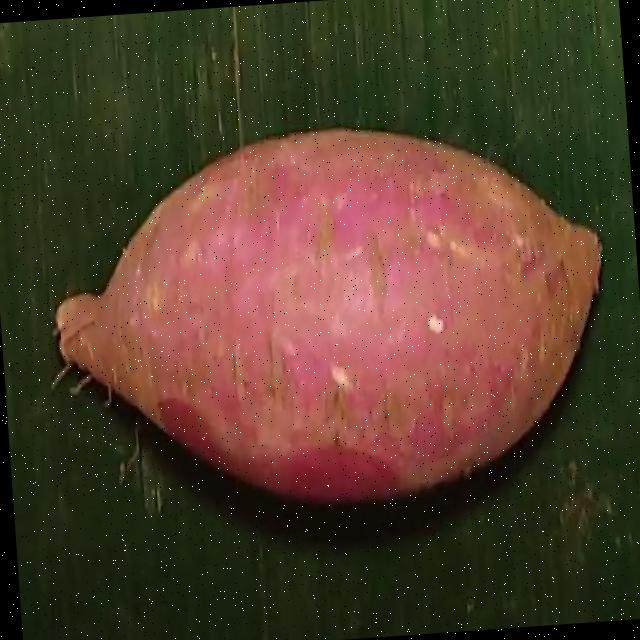Sweet Potato: (53, 128, 602, 499)
